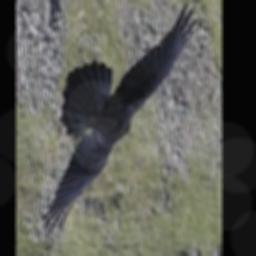Crow: (43, 1, 200, 233)
